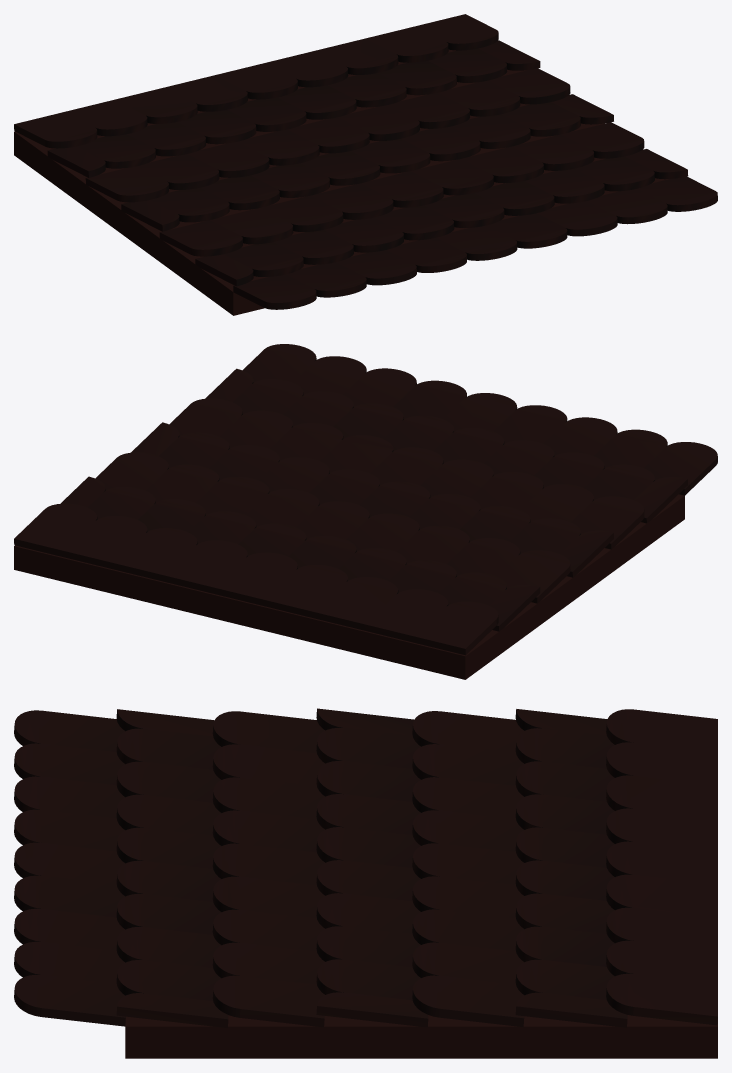
The model's file is Roof_Flat.fbx.
The picture shows the model from 3 angles, top to bottom: view 1: azimuth 30°, elevation 25°; view 2: azimuth 150°, elevation 25°; view 3: azimuth 270°, elevation 25°; orthographic projection. The views are drawn at different scales.
Parts seen in each view (by area): view 1: Roof_Flat; view 2: Roof_Flat; view 3: Roof_Flat.
Part boxes in pixels (<box>): Roof_Flat: <box>14,14,717,315</box>; Roof_Flat: <box>14,344,717,679</box>; Roof_Flat: <box>14,708,717,1058</box>.
Bounding box in the file's own units: 100 × 8.56 × 100.
